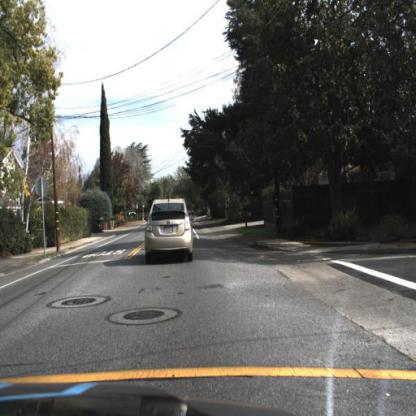car: (147, 195, 196, 263)
